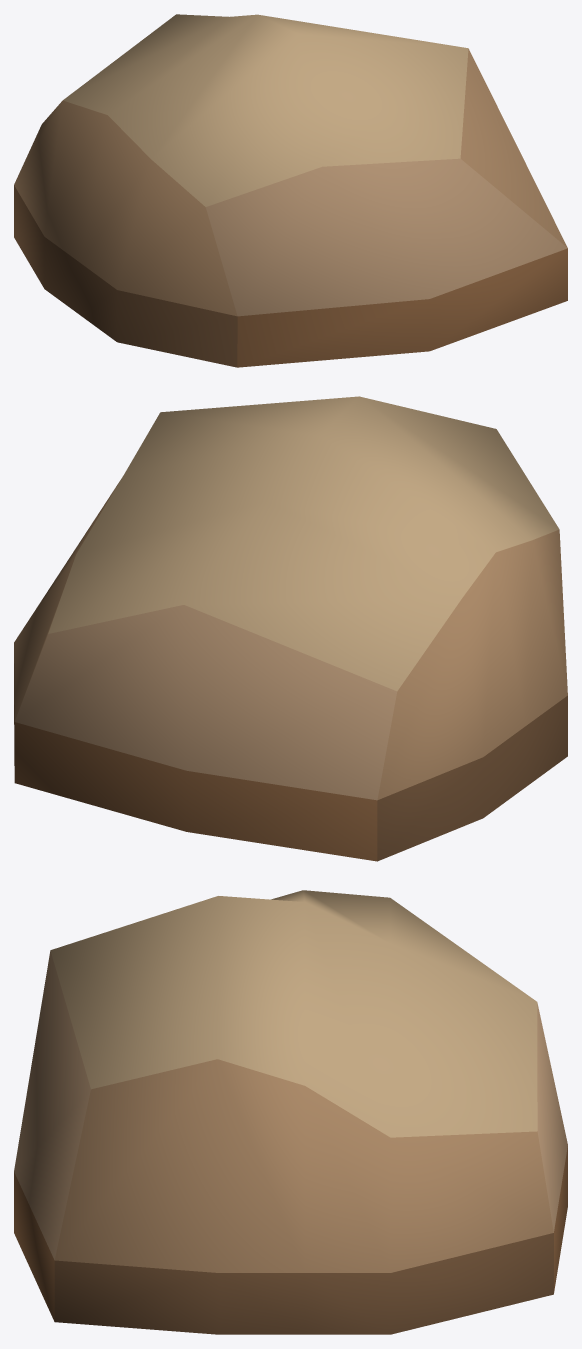
The model's file is consumables-bakedgoods-breadcrumb_v6.glb.
3 renders of one model, top to bottom at view 1: azimuth 30°, elevation 25°; view 2: azimuth 150°, elevation 25°; view 3: azimuth 270°, elevation 25°, orthographic. The views are drawn at different scales.
Parts seen in each view (by area): view 1: BreadCrumb_v6; view 2: BreadCrumb_v6; view 3: BreadCrumb_v6.
Part boxes in pixels (x1=…): BreadCrumb_v6: x1=14, y1=14, x2=567, y2=367; BreadCrumb_v6: x1=14, y1=396, x2=567, y2=861; BreadCrumb_v6: x1=14, y1=890, x2=567, y2=1334.
Bounding box in the file's own units: 0.0061 × 0.00383 × 0.00618.
